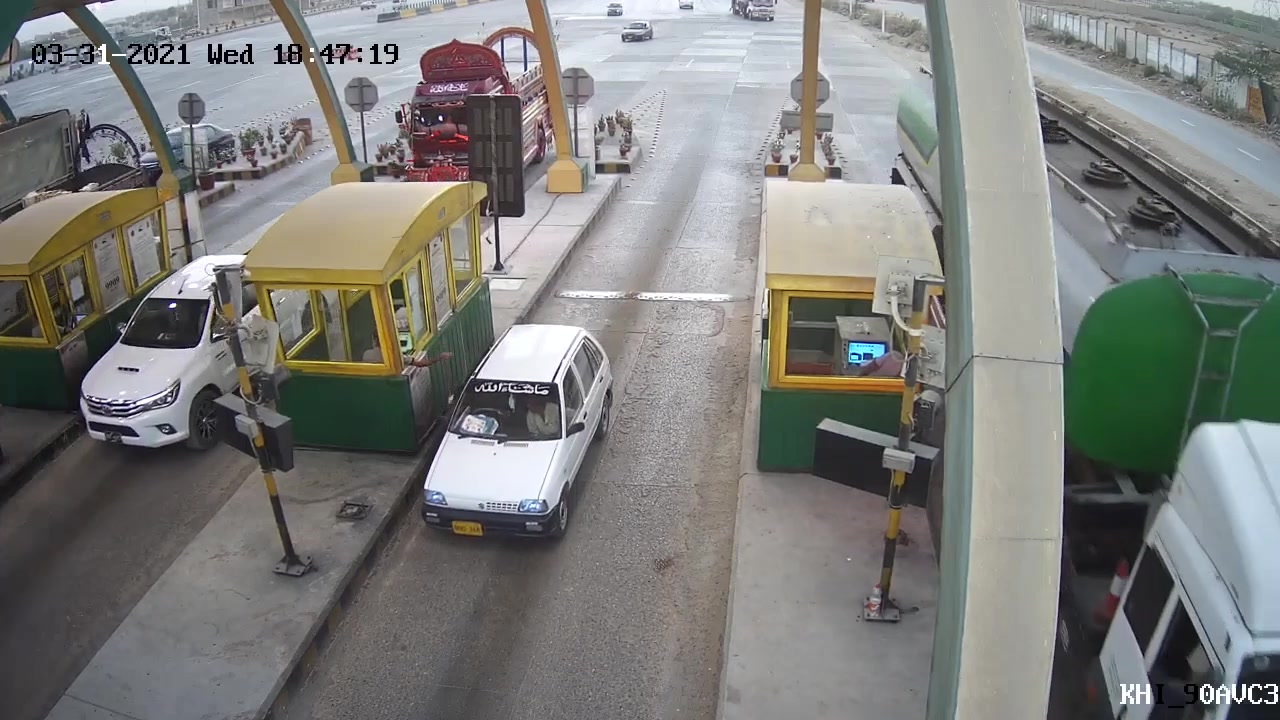F1: (409, 322, 619, 542)
